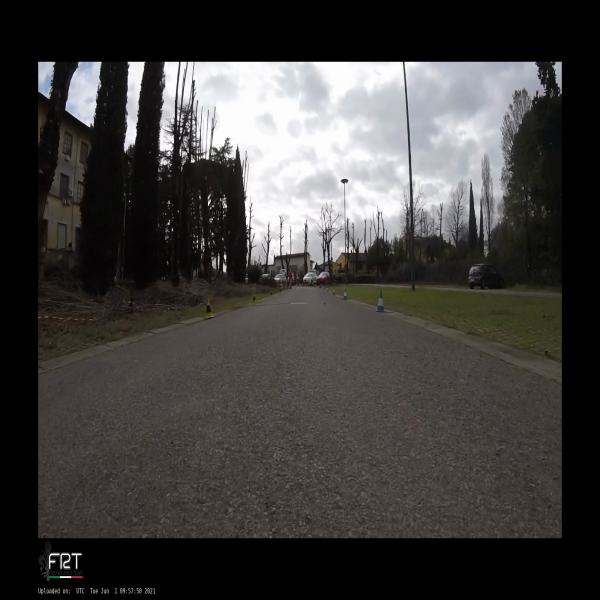blue_cone: (376, 291, 386, 312), (343, 289, 347, 300), (333, 288, 335, 294), (327, 286, 328, 292)
yellow_cone: (204, 298, 214, 318), (252, 294, 256, 304), (271, 291, 273, 297)
